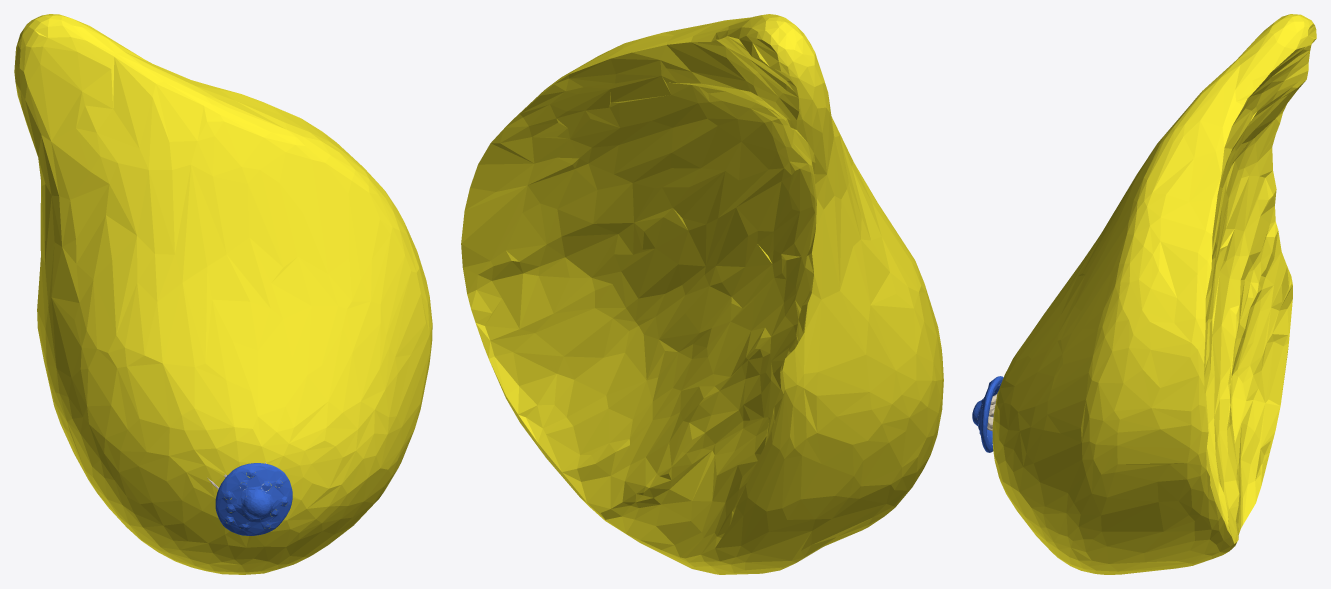
Rendered from breast_r.glb.
The picture shows the model from 3 angles, left to right: view 1: azimuth 30°, elevation 25°; view 2: azimuth 150°, elevation 25°; view 3: azimuth 270°, elevation 25°; orthographic projection. The views are drawn at different scales.
Parts seen in each view (by area): view 1: VH_F_fat_R, VH_F_areola_R, VH_F_nipple_R, VH_F_areolar_tubercles_R; view 2: VH_F_fat_R; view 3: VH_F_fat_R, VH_F_areola_R.
Part boxes in pixels (x1,y1,x2,y2): VH_F_fat_R: (14, 14, 432, 574); VH_F_areola_R: (215, 463, 292, 535); VH_F_nipple_R: (241, 491, 272, 519); VH_F_areolar_tubercles_R: (224, 469, 287, 530); VH_F_fat_R: (461, 14, 943, 574); VH_F_fat_R: (992, 14, 1316, 574); VH_F_areola_R: (977, 376, 1003, 452).
Size of the model in its own units: 0.1281 by 0.18 by 0.1131.
